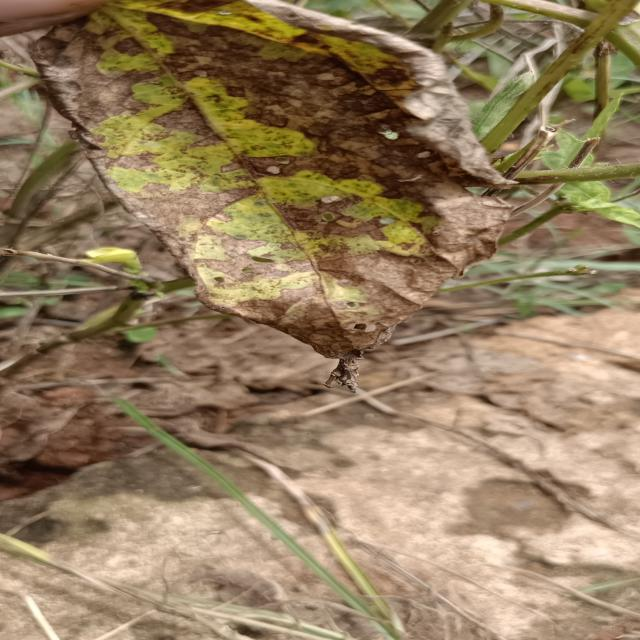Black gram_leaf spot: (28, 0, 526, 367)
